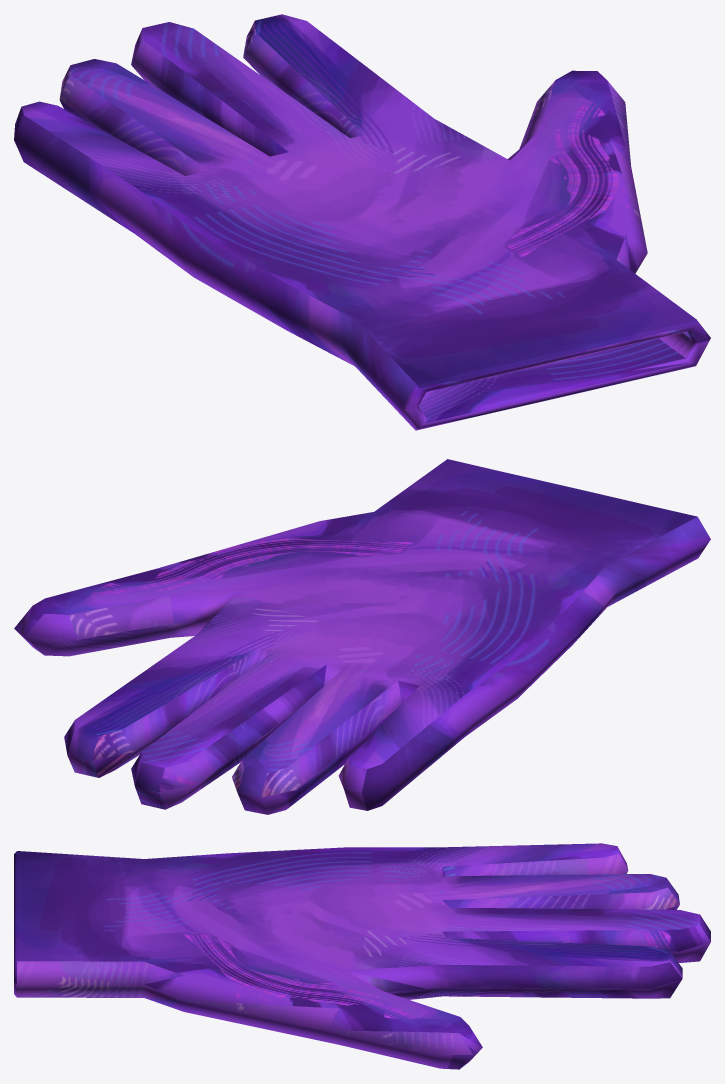
The model's file is glove.glb.
3 views of the same model, one above another, from view 1: azimuth 30°, elevation 25°; view 2: azimuth 150°, elevation 25°; view 3: azimuth 270°, elevation 25° (orthographic). The views are drawn at different scales.
Visible parts, largest first — view 1: standardSurface2; view 2: standardSurface2; view 3: standardSurface2.
Boxes of the visible parts, x1,y1,x2,y2 form: standardSurface2: (14, 14, 710, 430); standardSurface2: (14, 459, 710, 814); standardSurface2: (14, 843, 710, 1069).
Size of the model in its own units: 0.7939 by 0.08 by 1.21.
Materials: 1 (1 with a texture image).
